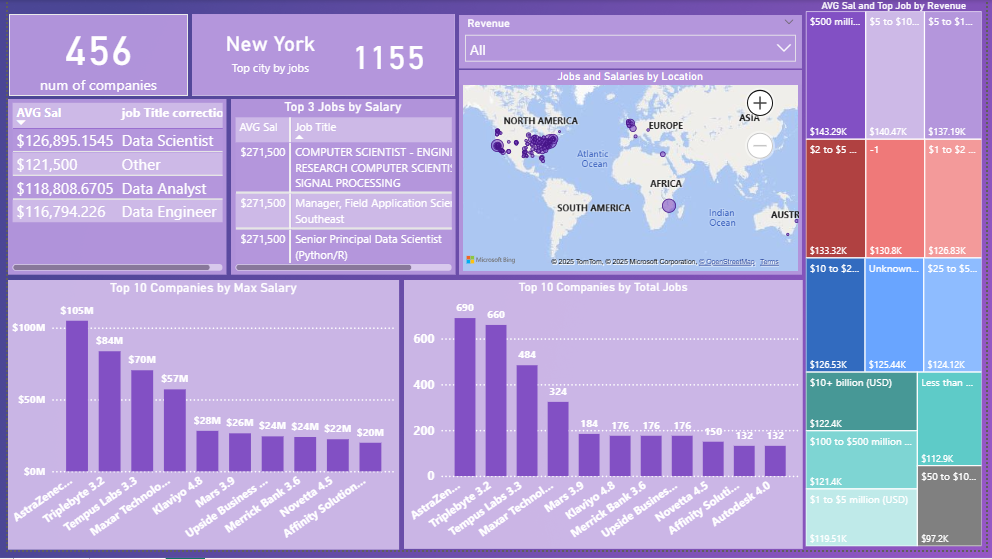

This screenshot's page, from the dashboard's own definition file:
{"tool":"powerbi","page":{"name":"Page 1","canvas":[1280,720],"ordinal":0},"visuals":[{"type":"card","fields":{"Values":["Jobs(fact) REF.num of companies"]},"box":[1.4,18.6,234.3,107.1],"z":0},{"type":"shape","box":[240.5,18.8,344.1,106.5],"z":0,"group":"g1"},{"type":"clusteredColumnChart","title":"Top 10 Companies by Total Jobs","fields":{"Category":["company REF.Company Name"],"Y":["Jobs(fact) REF.total Jobs"]},"box":[518.3,366.7,521.7,351.7],"z":1000},{"type":"clusteredColumnChart","title":"Top 10 Companies by Max Salary","fields":{"Y":["Sum(Jobs(fact) REF.Max sal)"],"Category":["company REF.Company Name"]},"box":[0,366.7,511.7,352.5],"z":2000},{"type":"slicer","fields":{"Values":["Revenue REF.Revenue"]},"box":[590.5,19,449,70],"z":3000},{"type":"tableEx","fields":{"Values":["Jobs(fact) REF.AVG Sal","Jobs(fact) REF.job Title correction"]},"box":[0,130,286.5,230],"z":4000},{"type":"treemap","title":"AVG Sal and Top Job by Revenue","fields":{"Group":["Revenue REF.Revenue"],"Values":["Jobs(fact) REF.AVG Sal"]},"box":[1039.5,0,240.5,720],"z":5000},{"type":"tableEx","title":"Top 3 Jobs by Salary","fields":{"Values":["Jobs(fact) REF.AVG Sal","Jobs(fact) REF.Job Title"]},"box":[292.4,130,293.5,230],"z":6000},{"type":"card","fields":{"Values":["Min(Location REF.location correction .1)"]},"box":[216.7,0,252.5,130],"z":7000,"group":"g1"},{"type":"map","title":"Jobs and Salaries by Location","fields":{"Category":["Location REF.location correction .1"],"Size":["Jobs(fact) REF.total Jobs"]},"box":[590.7,92.1,448.6,267.9],"z":7000},{"type":"group","id":"g1","title":"Group 1","box":[216.7,0,373.3,130],"z":8000},{"type":"card","fields":{"Values":["Jobs(fact) REF.total Jobs"]},"box":[405.2,23.5,184.8,94],"z":8000,"group":"g1"}]}

Visuals, with their boxes in screenshot pixels (x1, y1, x2, y2), scaled from the page's 1280x720 canvas onto the 992x559 screenshot:
card - Jobs(fact) REF.num of companies: [left=1, top=14, right=183, bottom=98]
shape: [left=186, top=15, right=453, bottom=97]
"Top 10 Companies by Total Jobs" clusteredColumnChart: [left=402, top=285, right=806, bottom=558]
"Top 10 Companies by Max Salary" clusteredColumnChart: [left=0, top=285, right=397, bottom=558]
slicer - Revenue REF.Revenue: [left=458, top=15, right=806, bottom=69]
tableEx - Jobs(fact) REF.AVG Sal x Jobs(fact) REF.job Title correction: [left=0, top=101, right=222, bottom=280]
"AVG Sal and Top Job by Revenue" treemap: [left=806, top=0, right=991, bottom=558]
"Top 3 Jobs by Salary" tableEx: [left=227, top=101, right=454, bottom=280]
card - Min(Location REF.location correction .1): [left=168, top=0, right=364, bottom=101]
"Jobs and Salaries by Location" map: [left=458, top=72, right=805, bottom=280]
"Group 1" group: [left=168, top=0, right=457, bottom=101]
card - Jobs(fact) REF.total Jobs: [left=314, top=18, right=457, bottom=91]
